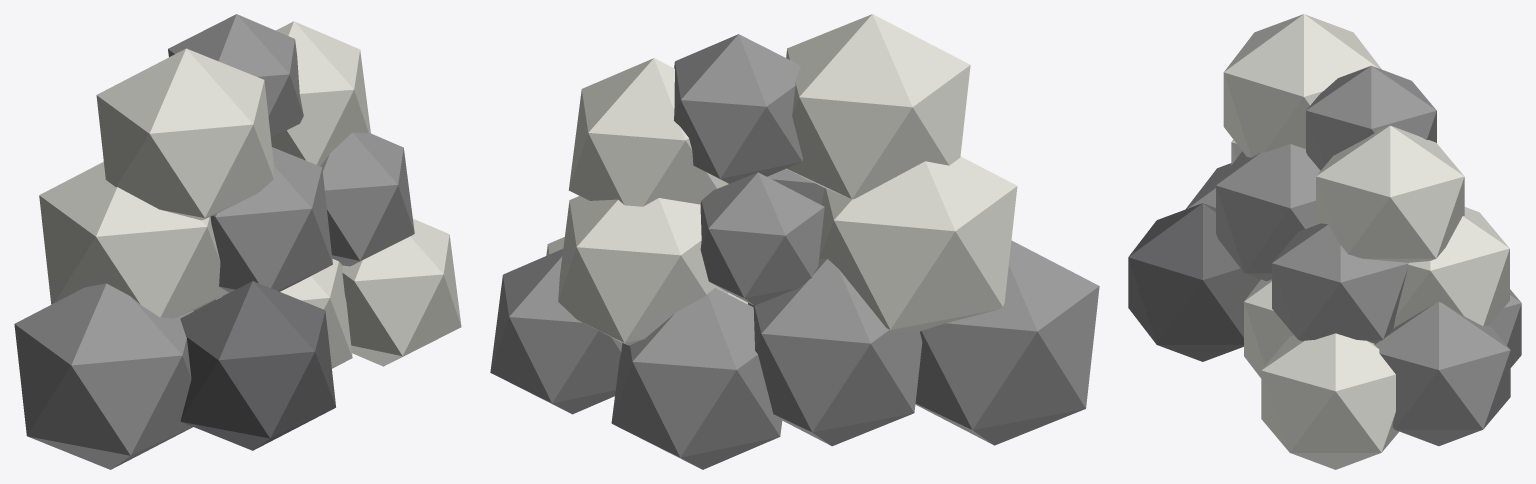
Rendered from smoke.glb.
The picture shows the model from 3 angles, left to right: view 1: azimuth 30°, elevation 25°; view 2: azimuth 150°, elevation 25°; view 3: azimuth 270°, elevation 25°; orthographic projection. The views are drawn at different scales.
Visible parts, largest first — view 1: smoke; view 2: smoke; view 3: smoke.
Part boxes in pixels (box(x1,y1,x2,y2)): smoke: box(14, 14, 461, 469); smoke: box(490, 14, 1099, 469); smoke: box(1128, 14, 1521, 469).
Size of the model in its own units: 1.47 by 1.18 by 1.17.
Materials: 1 (1 with a texture image).
